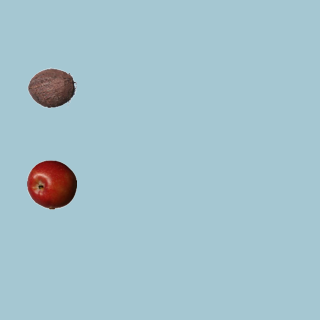Apple Braeburn: (26, 159, 76, 209)
Cocos: (26, 62, 76, 112)
